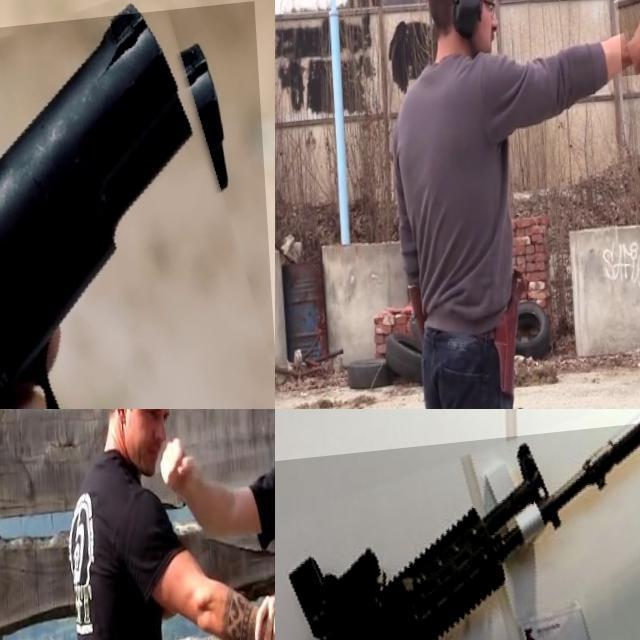gun-knife-thesis - v11 Yolov5 augmented: (0, 13, 275, 409), (275, 429, 640, 640)
